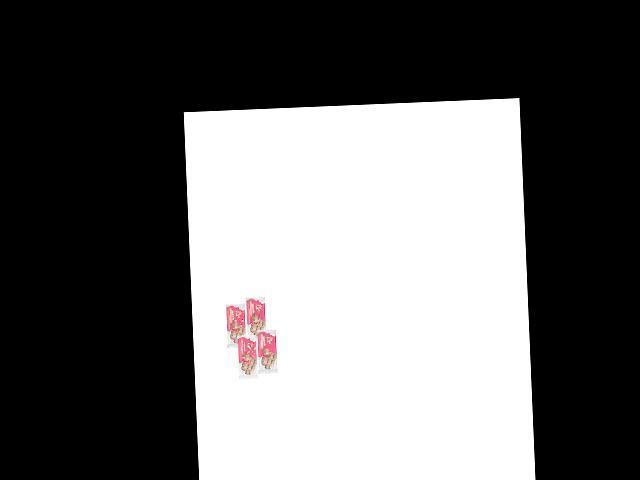chocolate: (223, 299, 250, 350)
